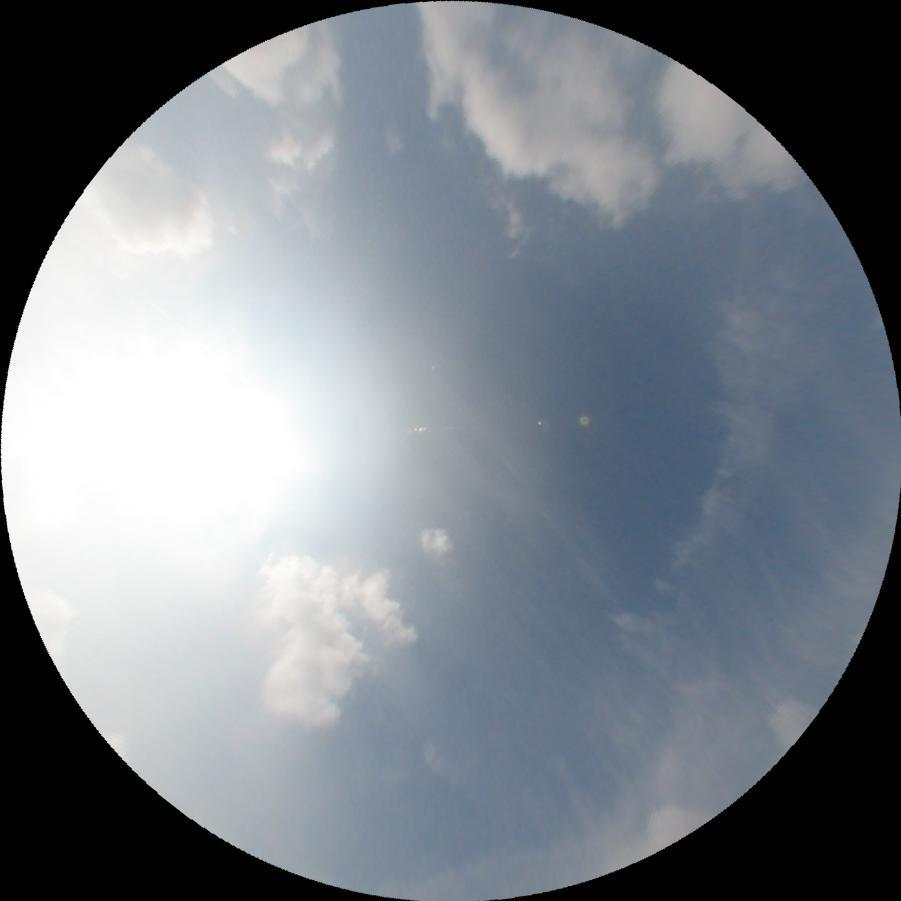sun: (82, 337, 325, 580)
